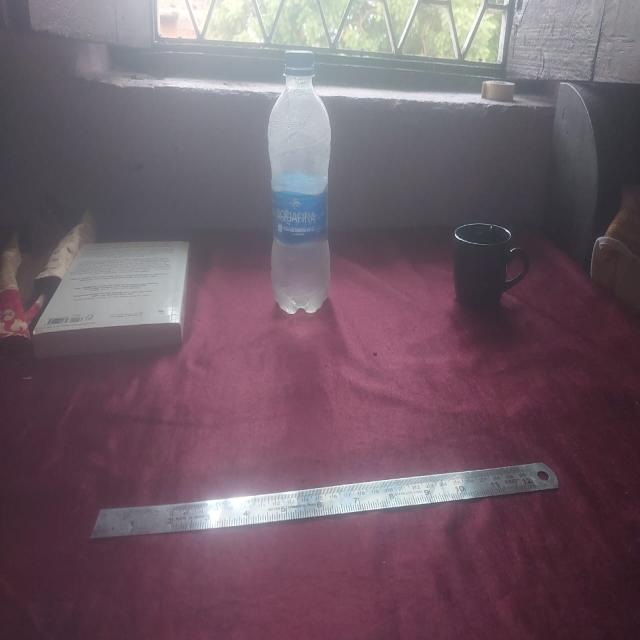Book: (34, 230, 192, 342)
Bottle: (261, 52, 337, 320)
Cup: (446, 212, 534, 317)
scale: (88, 457, 570, 544)
